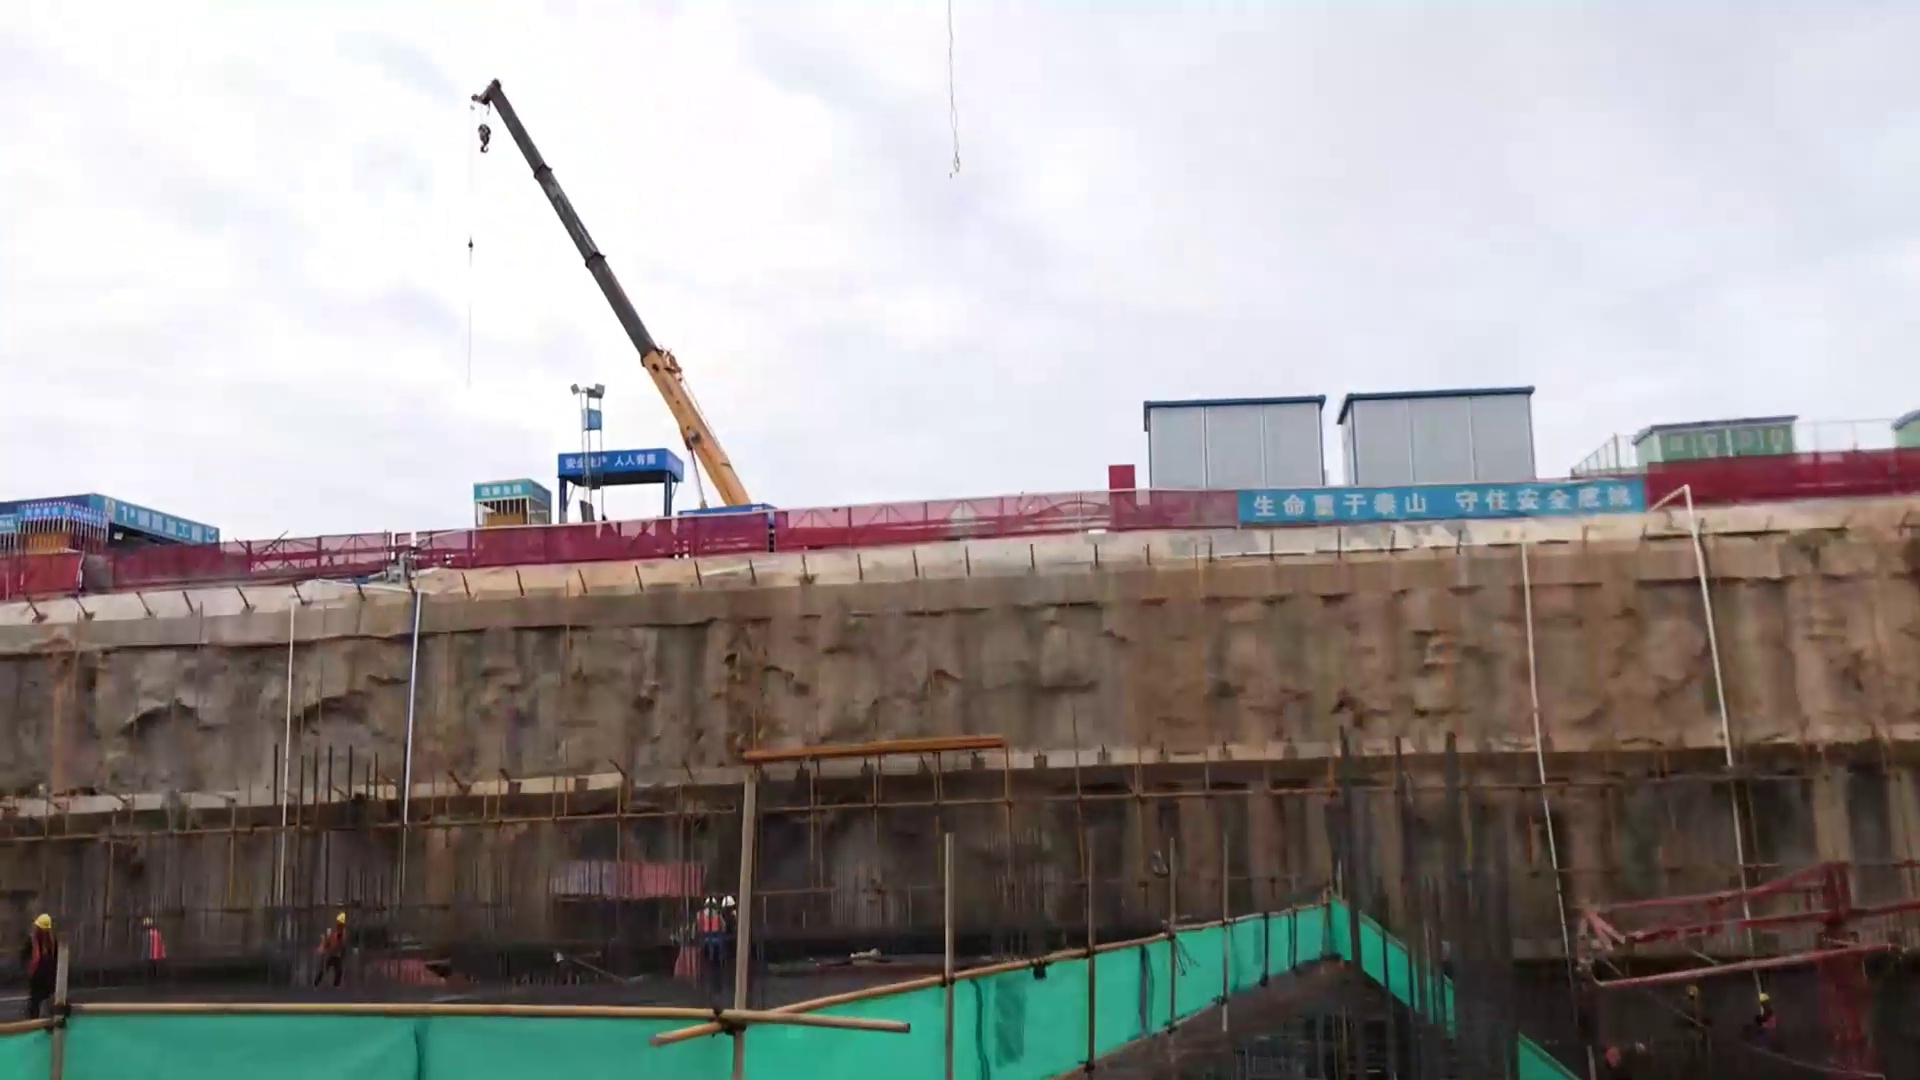helmet: (30, 911, 59, 929)
person: (690, 892, 735, 987), (311, 903, 351, 1003), (22, 911, 58, 1019), (134, 911, 167, 994)
